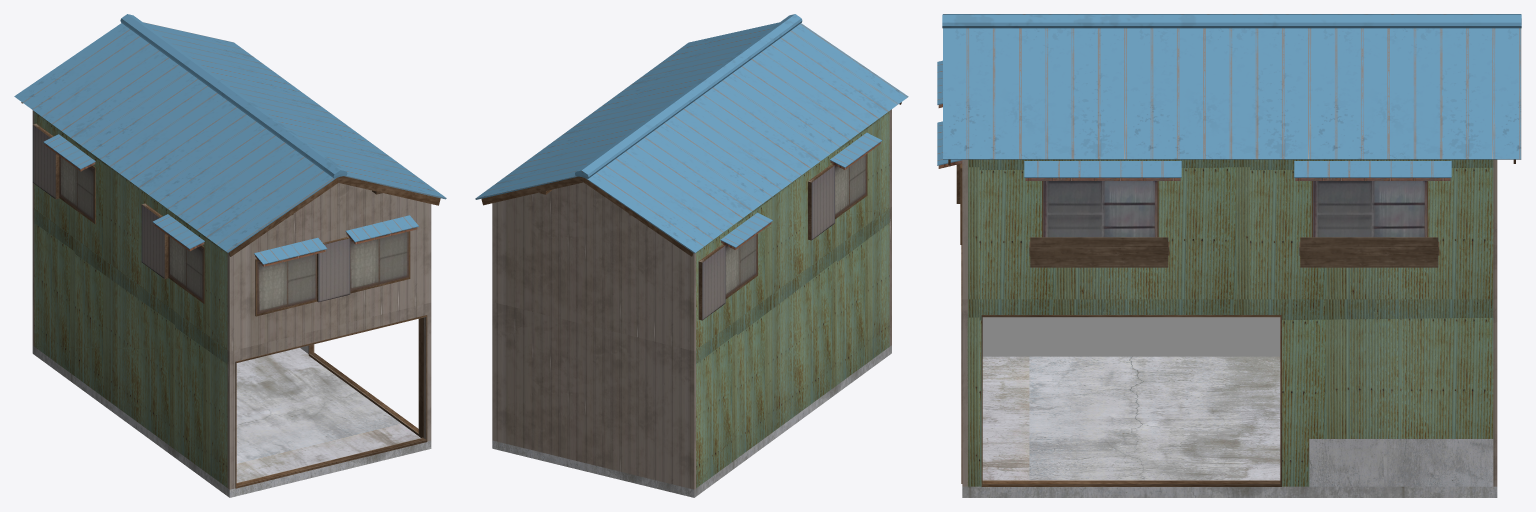
The picture shows the model from 3 angles, left to right: view 1: azimuth 30°, elevation 25°; view 2: azimuth 150°, elevation 25°; view 3: azimuth 270°, elevation 25°; orthographic projection. The views are drawn at different scales.
Visible parts, largest first — view 1: ms_h01_1b; view 2: ms_h01_1b; view 3: ms_h01_1b.
Boxes of the visible parts, box(x1,y1,x2,y2) form: ms_h01_1b: box(14, 14, 446, 497); ms_h01_1b: box(475, 14, 908, 497); ms_h01_1b: box(937, 14, 1521, 497).
Bounding box in the file's own units: 643 × 813 × 1030.
